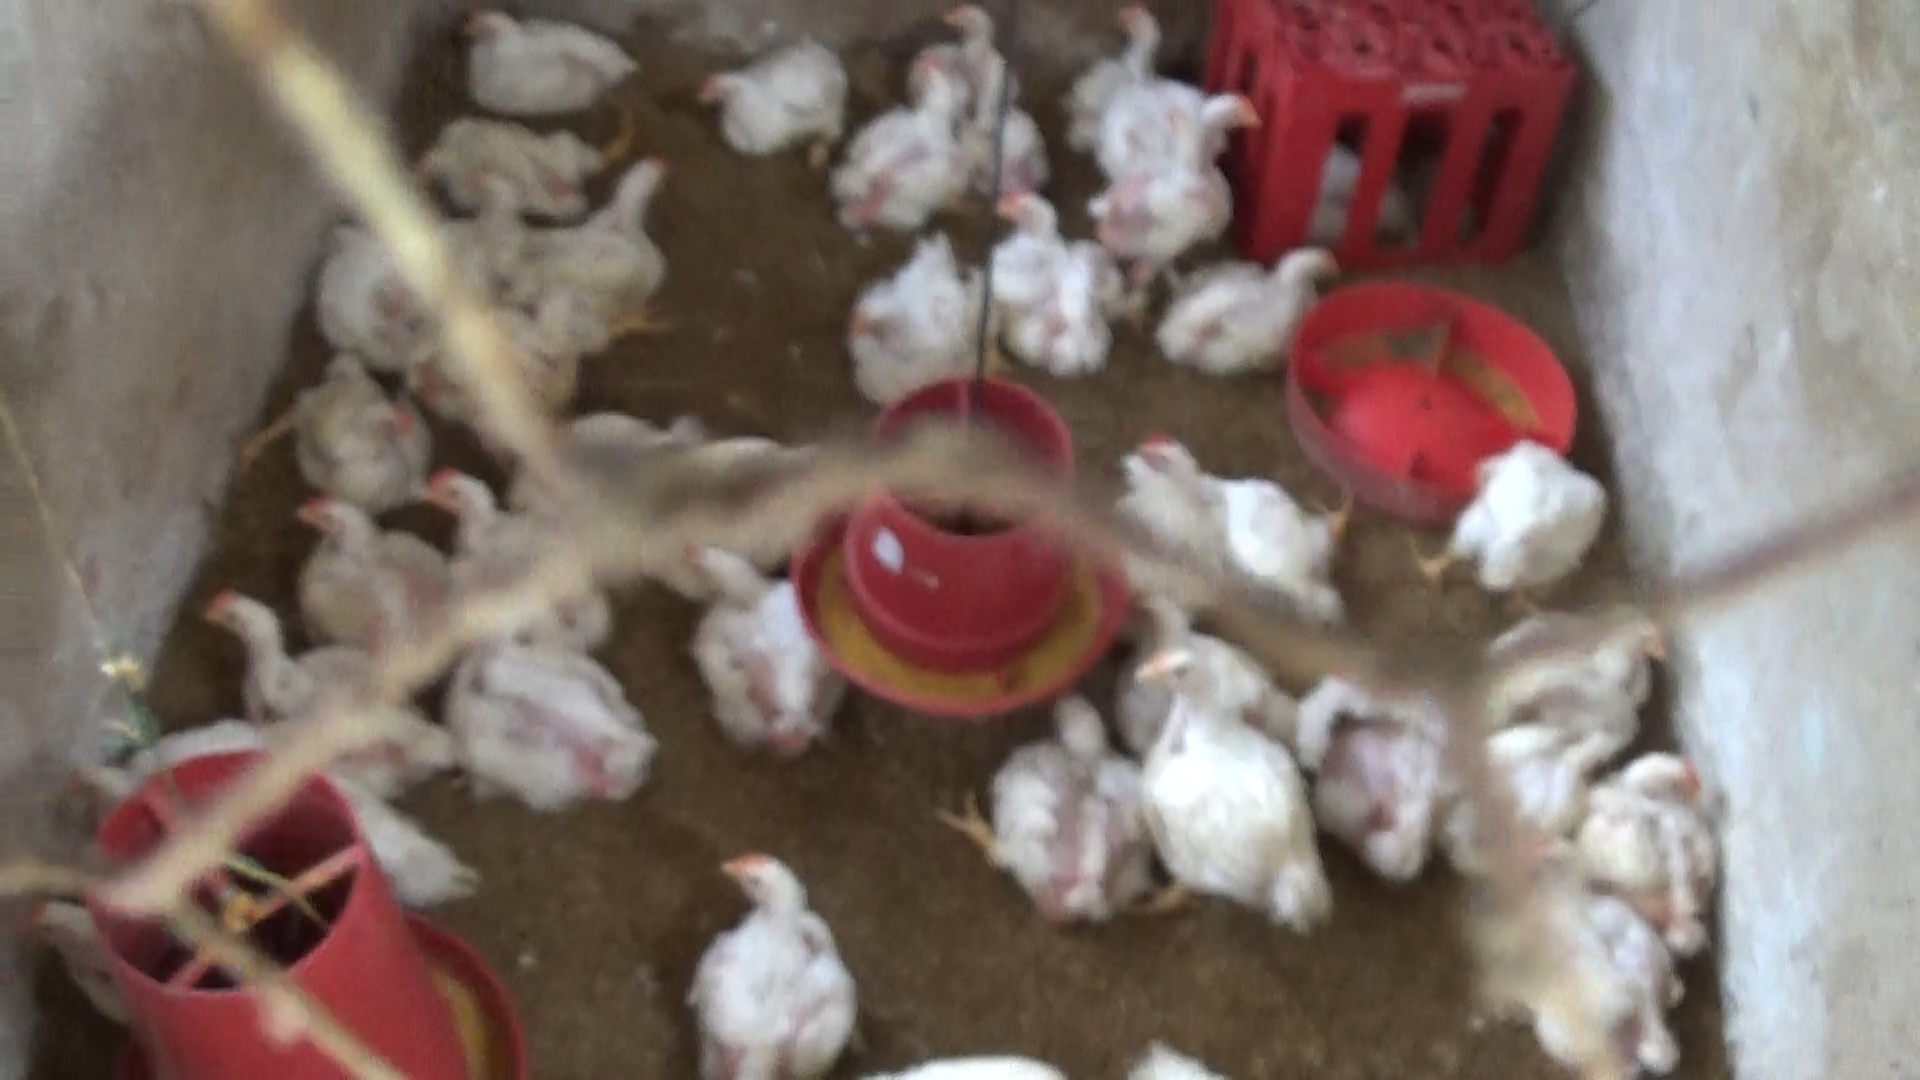Pollos: (1126, 644, 1320, 934), (666, 841, 865, 1080), (193, 582, 426, 785), (1139, 425, 1361, 615), (997, 674, 1153, 932), (1294, 650, 1458, 886), (458, 624, 659, 808), (1093, 80, 1274, 280), (673, 538, 836, 752), (986, 171, 1122, 384), (1452, 433, 1602, 615), (1154, 239, 1346, 373), (851, 229, 989, 415), (829, 53, 967, 232), (1576, 752, 1708, 938), (539, 148, 682, 314), (418, 117, 611, 237), (290, 487, 440, 640), (290, 352, 435, 508), (447, 4, 633, 125), (1058, 0, 1195, 154), (1497, 611, 1665, 725), (696, 36, 845, 164), (957, 28, 1058, 203), (417, 456, 551, 574), (928, 7, 1013, 74)
